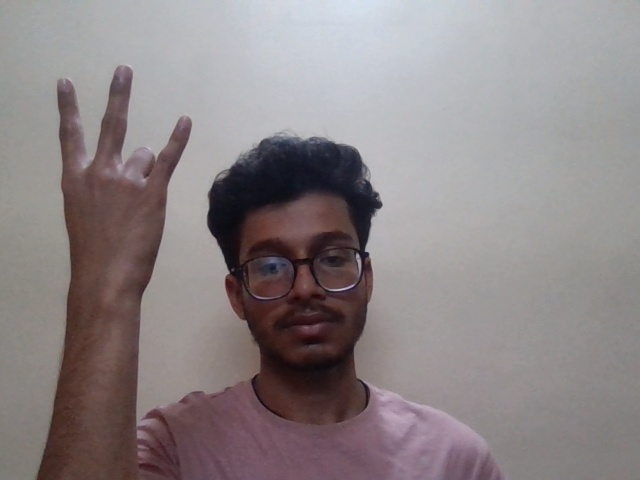why: (49, 57, 192, 253)
